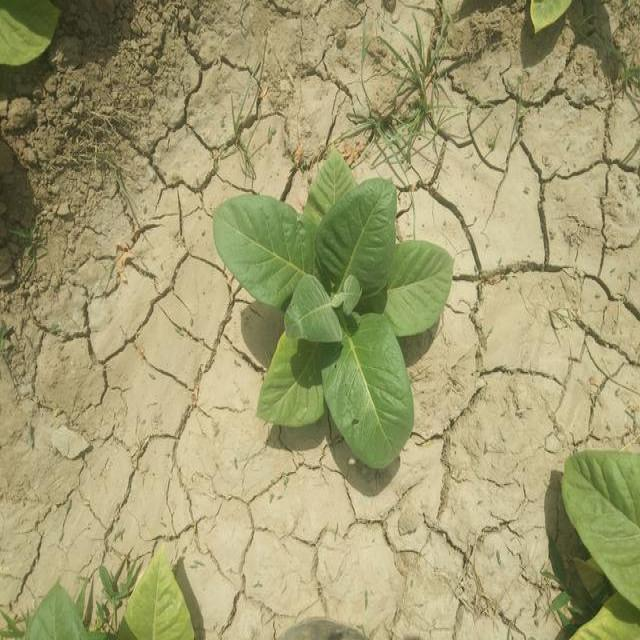crop: (223, 159, 448, 462), (565, 451, 640, 640), (102, 555, 192, 640), (0, 0, 60, 80), (18, 588, 85, 640), (522, 0, 578, 44)
